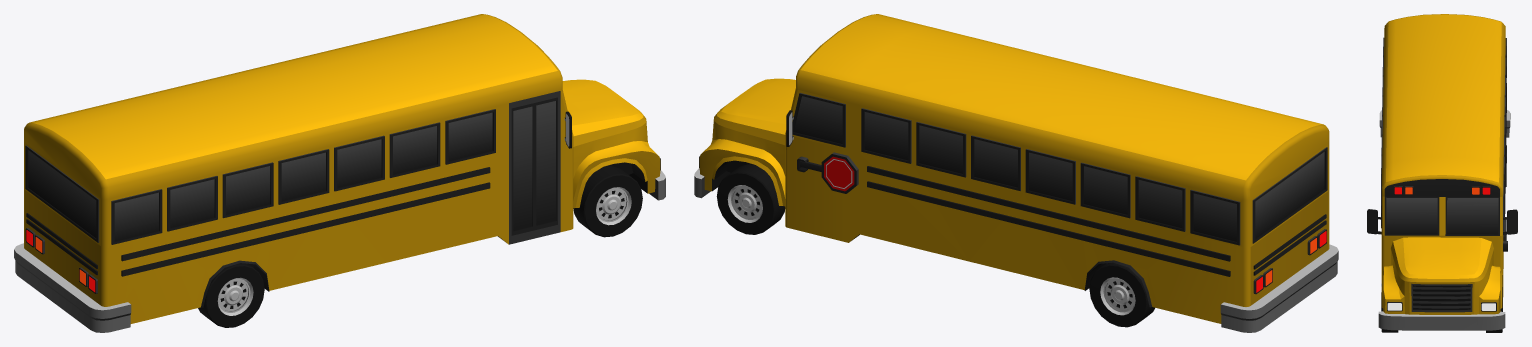
File: Truck_017.glb
The picture shows the model from 3 angles, left to right: view 1: azimuth 30°, elevation 25°; view 2: azimuth 150°, elevation 25°; view 3: azimuth 270°, elevation 25°; orthographic projection. The views are drawn at different scales.
Parts seen in each view (by area): view 1: Truck_017, wheel_1_Truck_017_Wheel_1R, wheel_3_Truck_017_Wheel_2R; view 2: Truck_017, wheel_0_Truck_017_Wheel_1L, wheel_2_Truck_017_Wheel_2L; view 3: Truck_017.
Part boxes in pixels (bbox=[...]): Truck_017: bbox=[14, 14, 665, 332]; wheel_1_Truck_017_Wheel_1R: bbox=[573, 166, 642, 237]; wheel_3_Truck_017_Wheel_2R: bbox=[198, 263, 264, 327]; Truck_017: bbox=[694, 14, 1338, 332]; wheel_0_Truck_017_Wheel_1L: bbox=[716, 164, 785, 234]; wheel_2_Truck_017_Wheel_2L: bbox=[1089, 262, 1154, 327]; Truck_017: bbox=[1367, 14, 1517, 330].
Bounding box in the file's own units: 7.93 × 2.47 × 2.46.
Materials: 2 (2 with a texture image).
